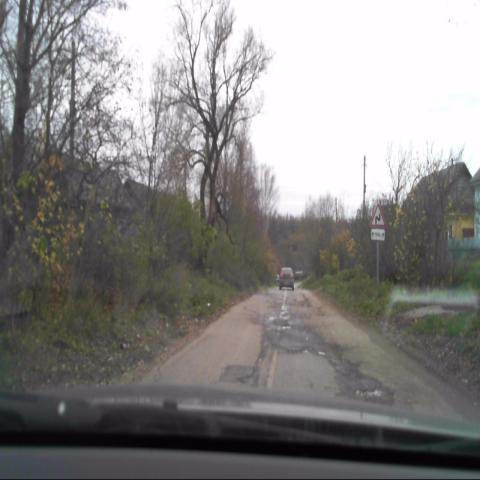1_12: (370, 205, 385, 226)
